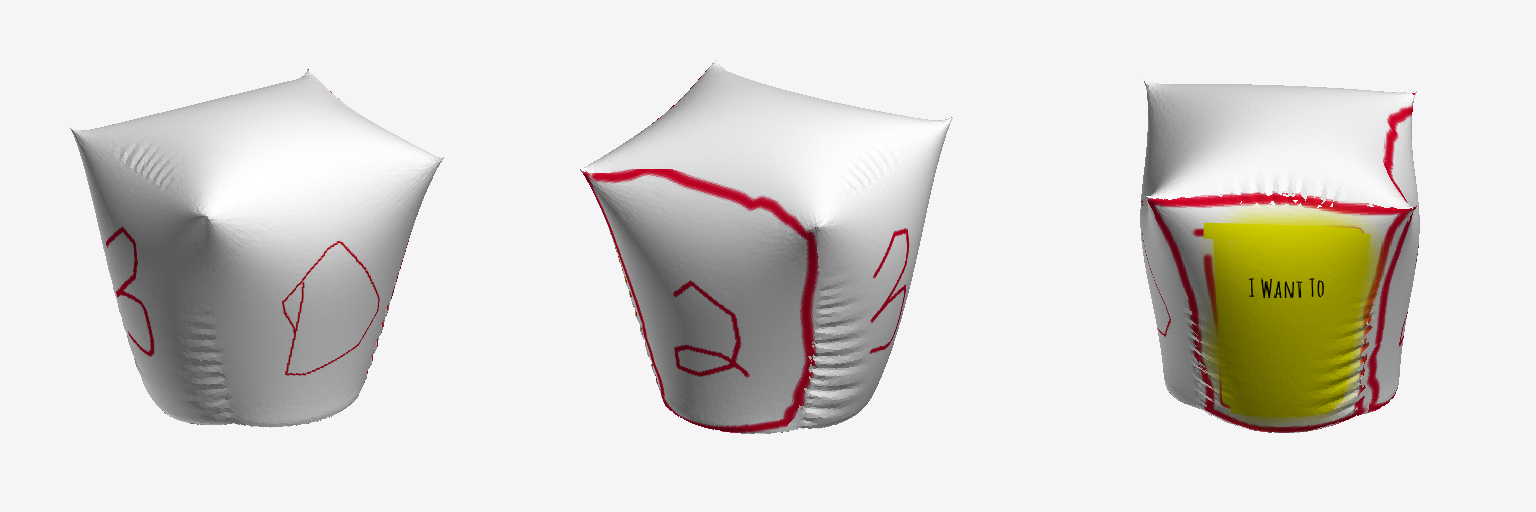
The picture shows the model from 3 angles: view 1: azimuth 30°, elevation 25°; view 2: azimuth 150°, elevation 25°; view 3: azimuth 270°, elevation 25°; orthographic projection.
Parts seen in each view (by area): view 1: default; view 2: default; view 3: default.
Boxes of the visible parts, x1,y1,x2,y2 form: default: [69, 69, 443, 427]; default: [579, 57, 953, 433]; default: [1140, 79, 1419, 432].
Size of the model in its own units: 98.48 by 105 by 90.9.
Materials: 1 (1 with a texture image).